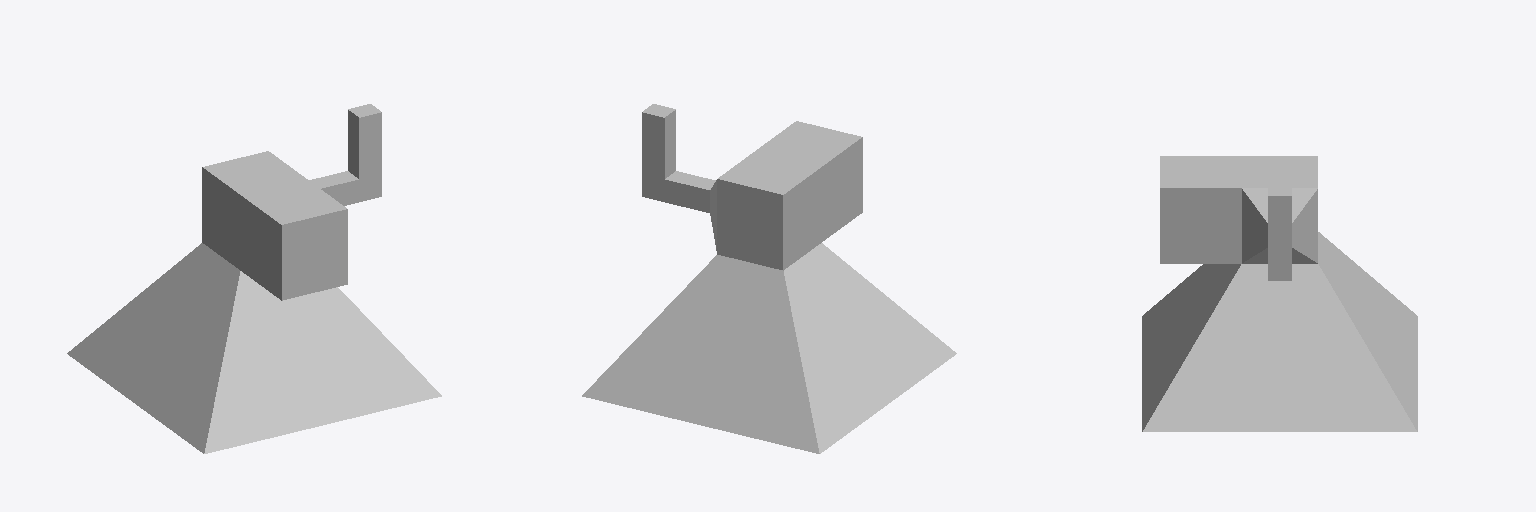
Rendered from player.obj.
The picture shows the model from 3 angles: view 1: azimuth 30°, elevation 25°; view 2: azimuth 150°, elevation 25°; view 3: azimuth 270°, elevation 25°; orthographic projection.
Visible parts, largest first — view 1: Cube; view 2: Cube; view 3: Cube.
Boxes of the visible parts, x1,y1,x2,y2 form: Cube: [67, 104, 441, 453]; Cube: [582, 104, 956, 453]; Cube: [1142, 156, 1417, 431].
Bounding box in the file's own units: 2.02 × 1.9 × 2.